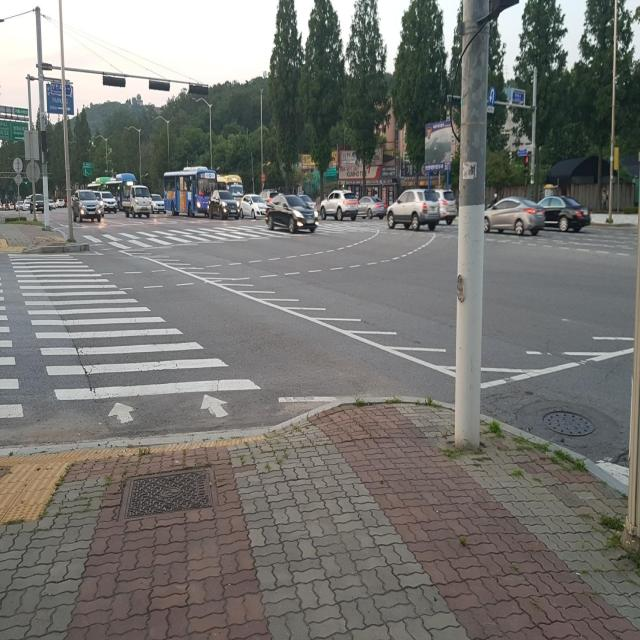횡단보도: (0, 252, 262, 428), (90, 217, 290, 246)
